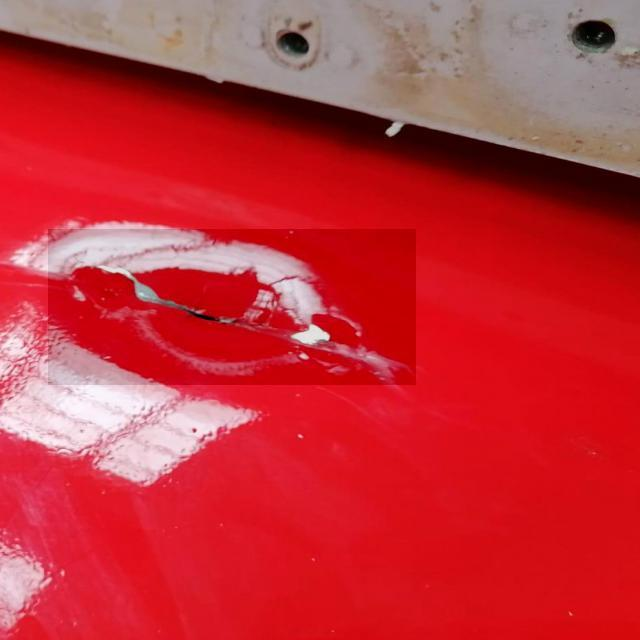crack: (49, 230, 417, 386)
